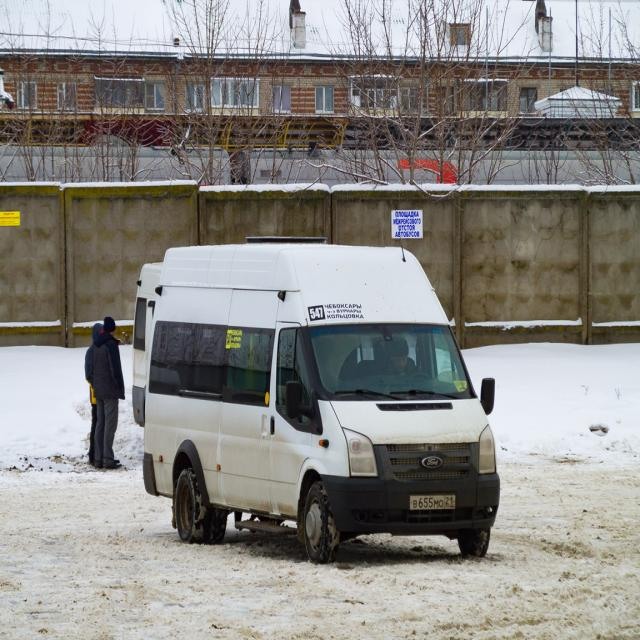number-of-bus: (309, 305, 326, 322)
